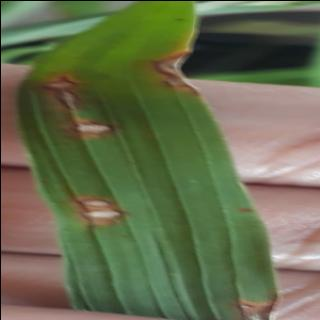Blast: (39, 58, 112, 148), (70, 186, 132, 233), (148, 46, 198, 100)
